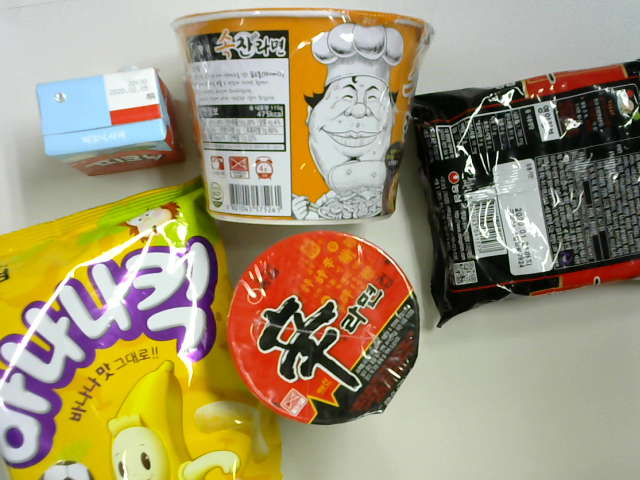Banana_Kick: (1, 174, 286, 480)
Hejangchan: (169, 8, 429, 234)
Picnic_Apple: (29, 66, 179, 176)
Sinramen_Black: (413, 60, 640, 310)
Sinramen_small: (223, 232, 417, 426)
